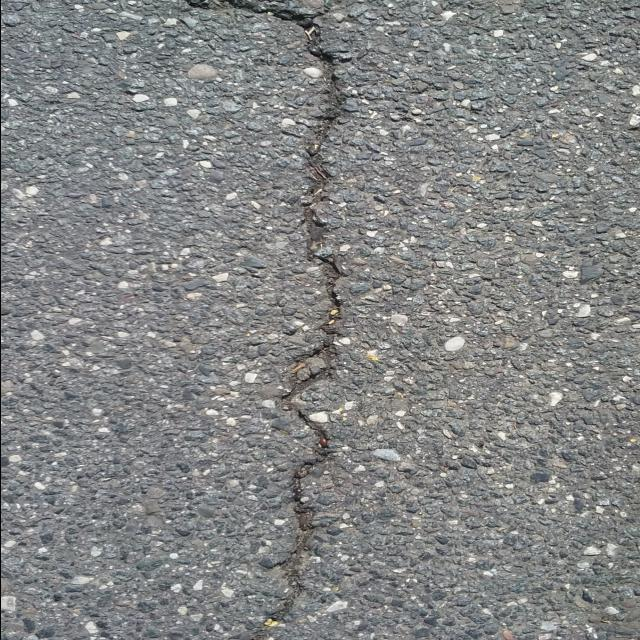Crack: (174, 0, 352, 640)
